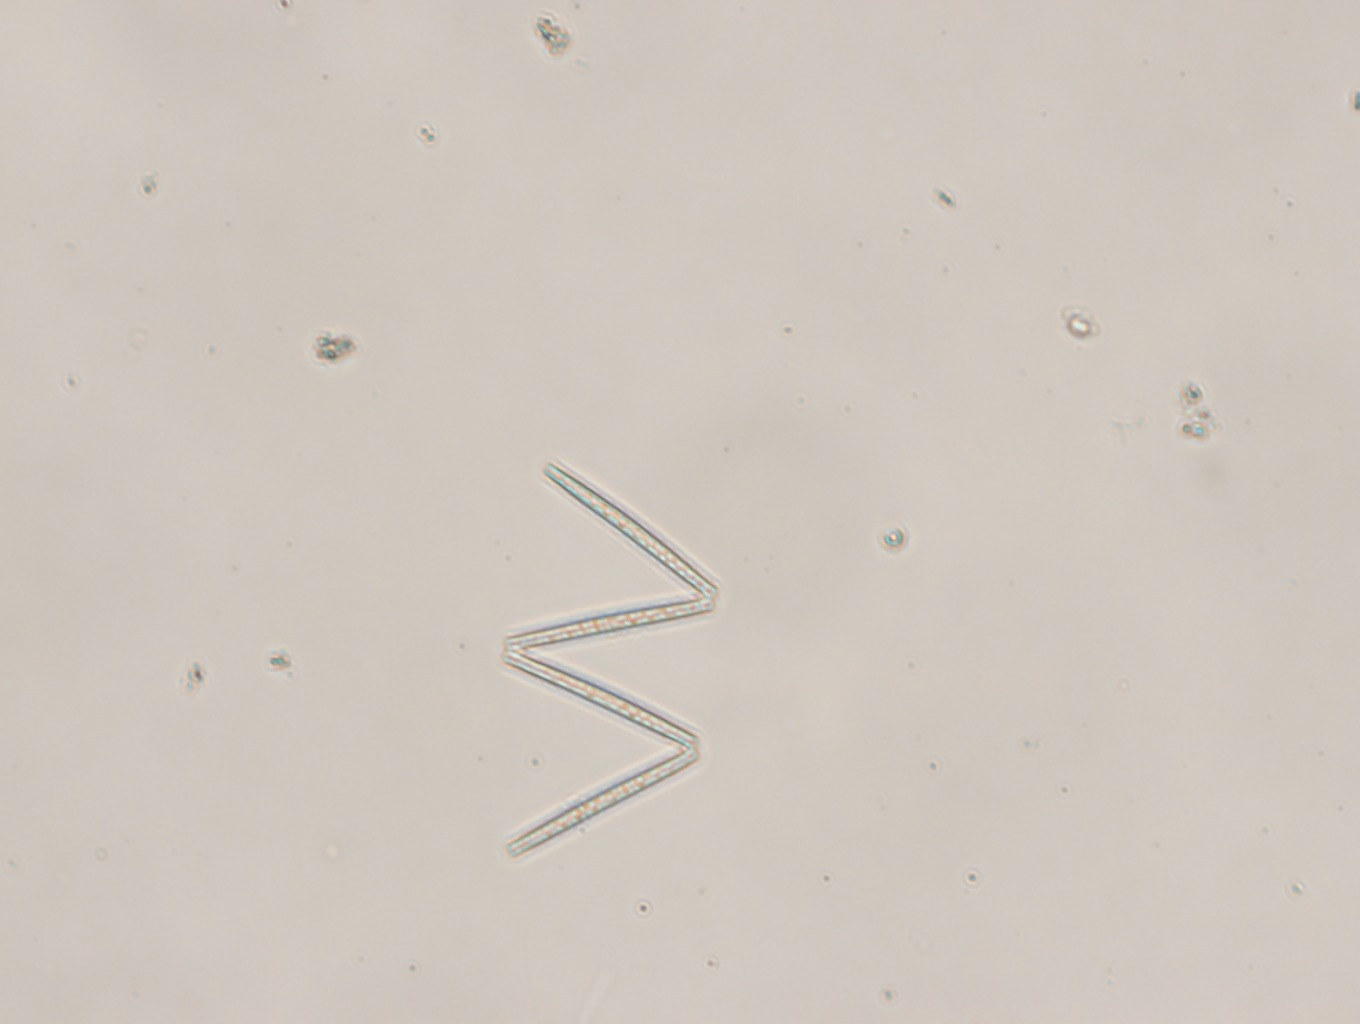thalassionema nitzschioides: (495, 447, 719, 864)
